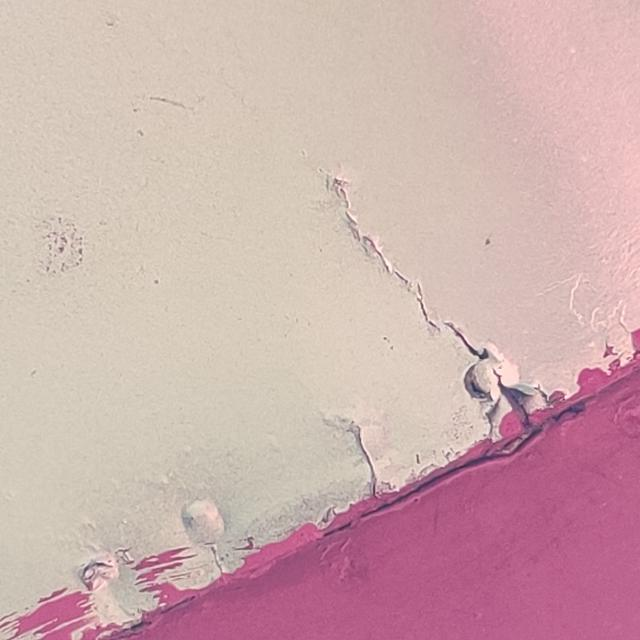crack: (314, 154, 570, 467), (326, 403, 401, 516)
